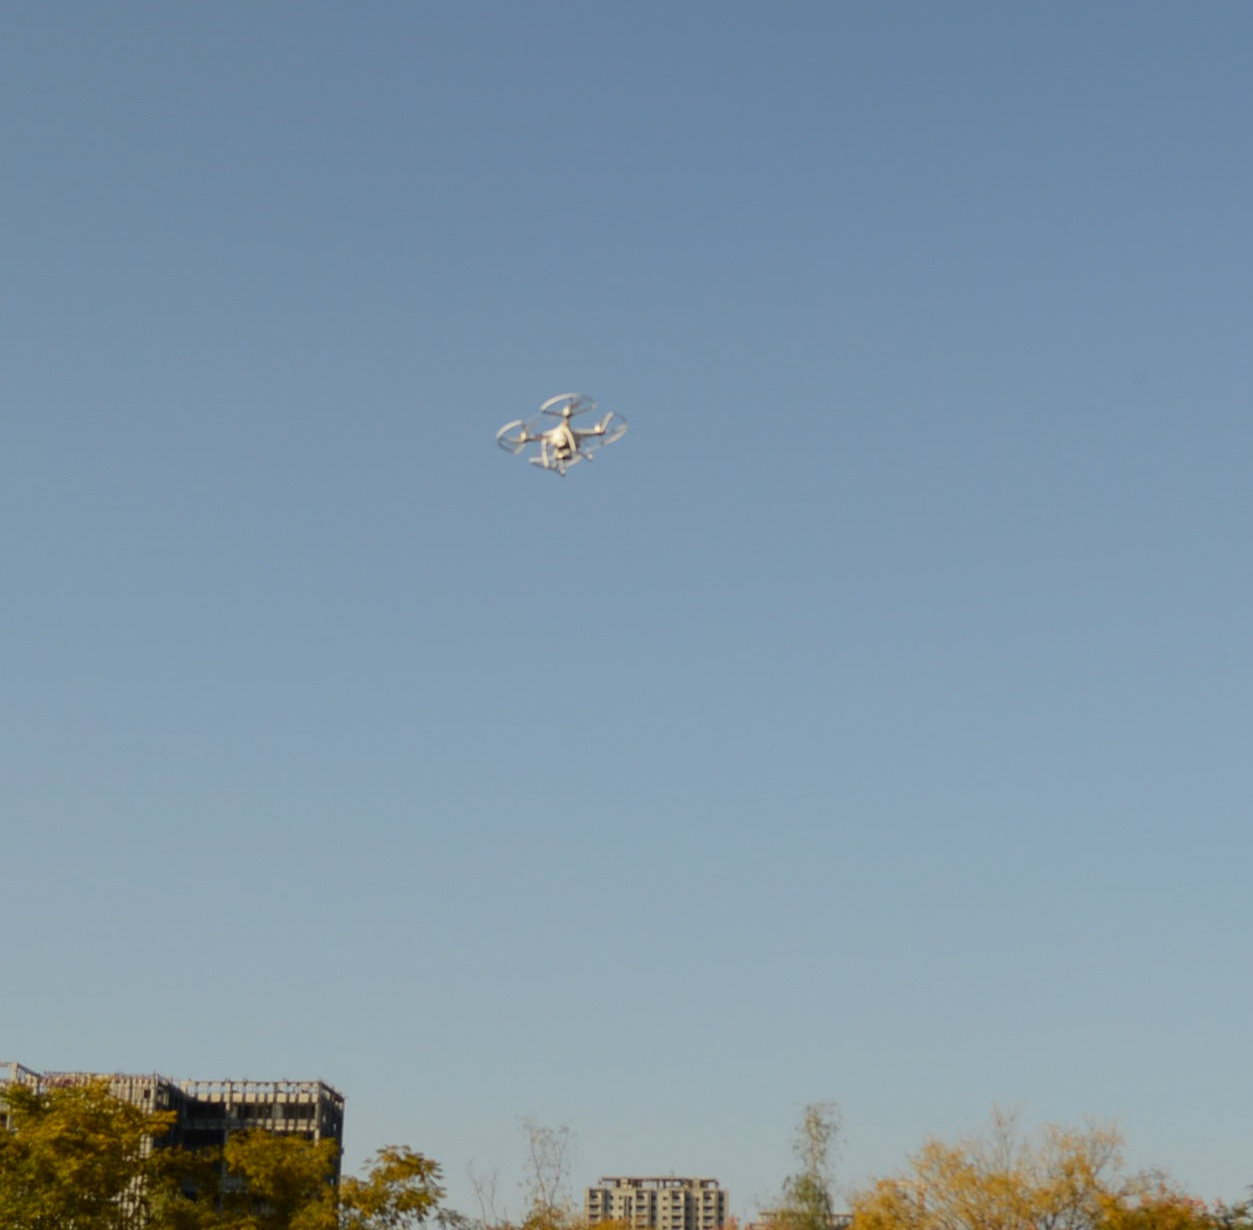DJI: (491, 391, 631, 481)
